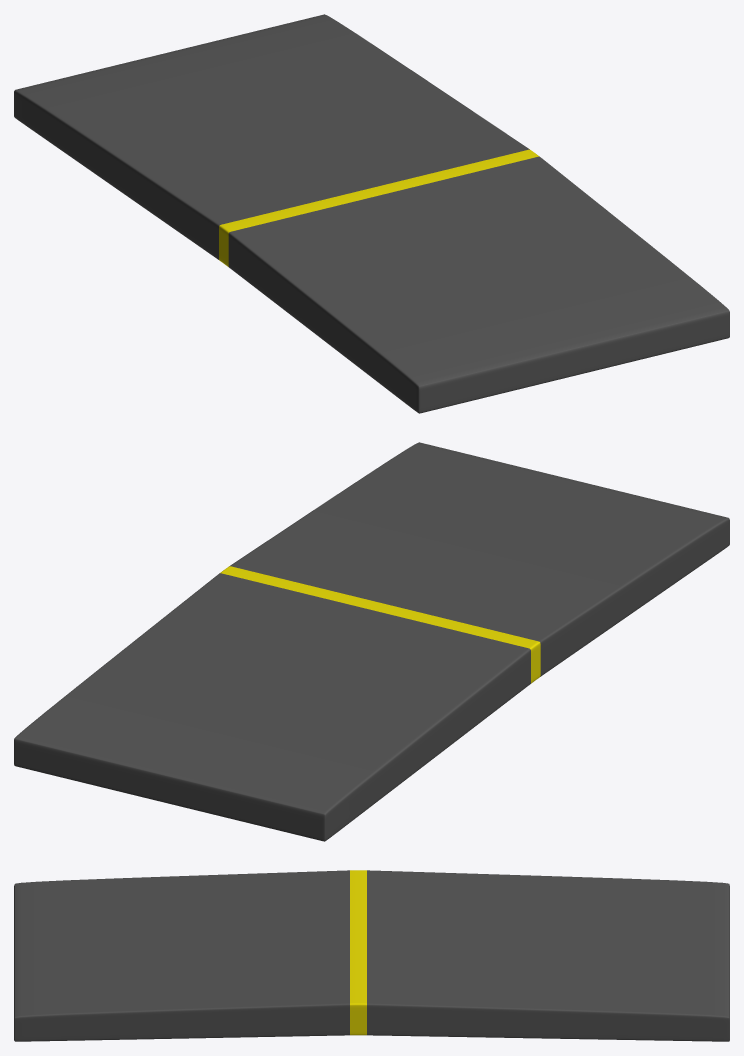
The model's file is Asphalt_LOD_LP_FBX.fbx.
The picture shows the model from 3 angles, top to bottom: view 1: azimuth 30°, elevation 25°; view 2: azimuth 150°, elevation 25°; view 3: azimuth 270°, elevation 25°; orthographic projection. The views are drawn at different scales.
Parts seen in each view (by area): view 1: Asphalt_LOD0; view 2: Asphalt_LOD0; view 3: Asphalt_LOD0.
Boxes of the visible parts, x1,y1,x2,y2 form: Asphalt_LOD0: (14,14,729,413); Asphalt_LOD0: (14,442,729,841); Asphalt_LOD0: (14,870,729,1041).
Size of what is drawn, in the model's own units: 400 by 52.8 by 900.
